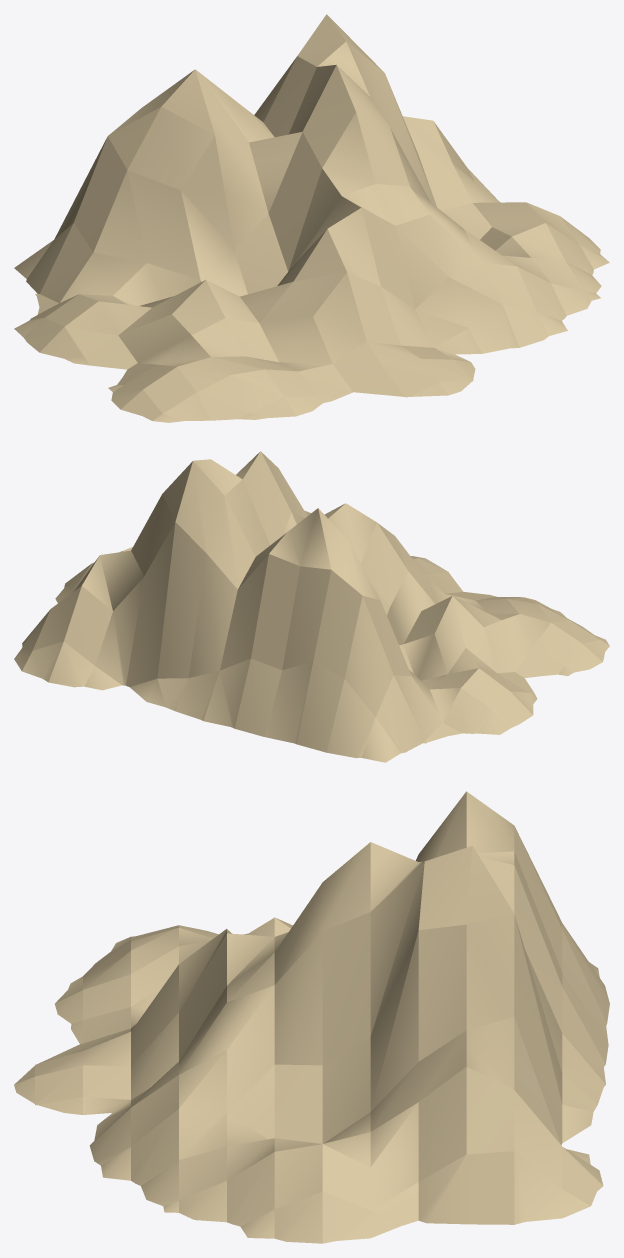
The model's file is montagna.fbx.
3 renders of one model, top to bottom at view 1: azimuth 30°, elevation 25°; view 2: azimuth 150°, elevation 25°; view 3: azimuth 270°, elevation 25°, orthographic. The views are drawn at different scales.
Visible parts, largest first — view 1: Hill_Dirt_01; view 2: Hill_Dirt_01; view 3: Hill_Dirt_01.
Boxes of the visible parts, <box> form: Hill_Dirt_01: <box>14,14,609,422</box>; Hill_Dirt_01: <box>14,451,609,762</box>; Hill_Dirt_01: <box>14,791,609,1243</box>.
Size of the model in its own units: 4751 by 1955 by 3790.
